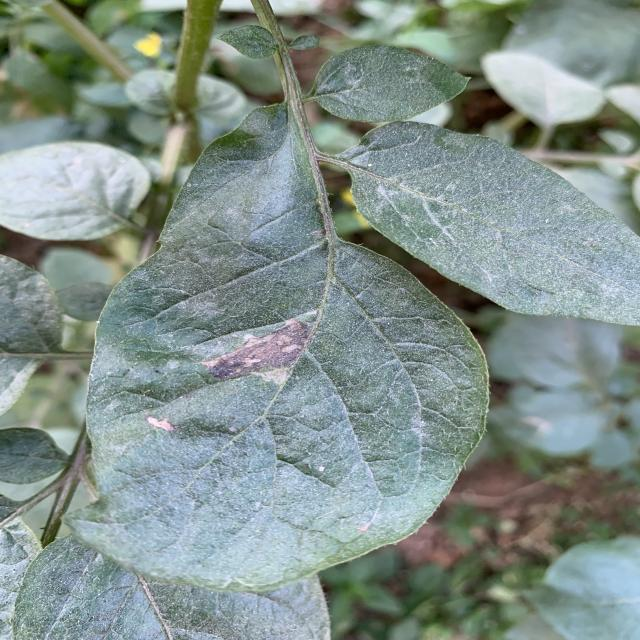lateblight: (202, 319, 312, 379)
